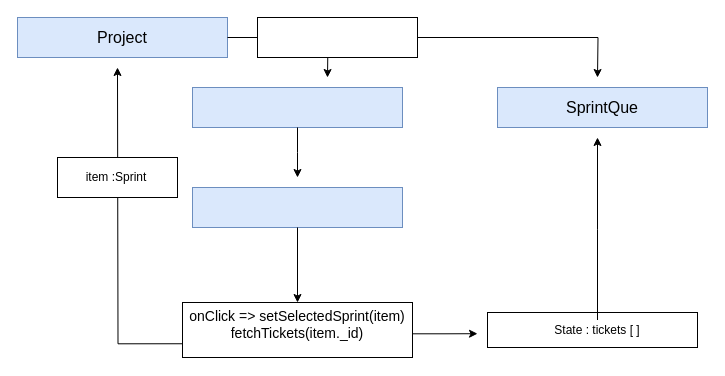
This 725x376 diagram has some shape labels left out. The centre of each missing label's shape, as x and y in pixels:
"setSelectedSprint(null)" goes at (x=337, y=37).
"SprintItem" goes at (x=297, y=207).
"SprintSideBar" goes at (x=297, y=107).
